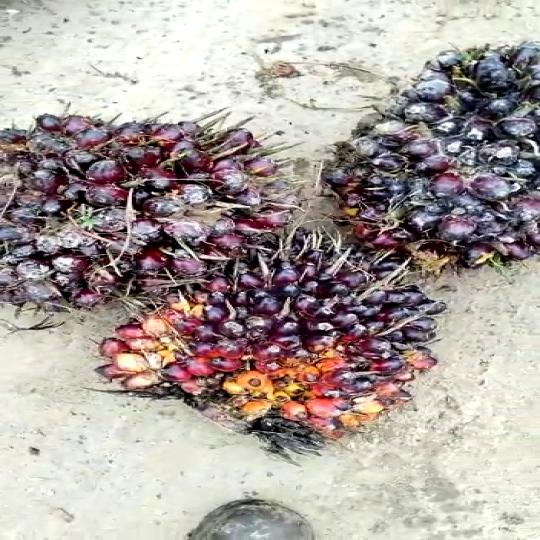kurang masak: (95, 240, 440, 453), (0, 107, 303, 316), (317, 36, 540, 292)
